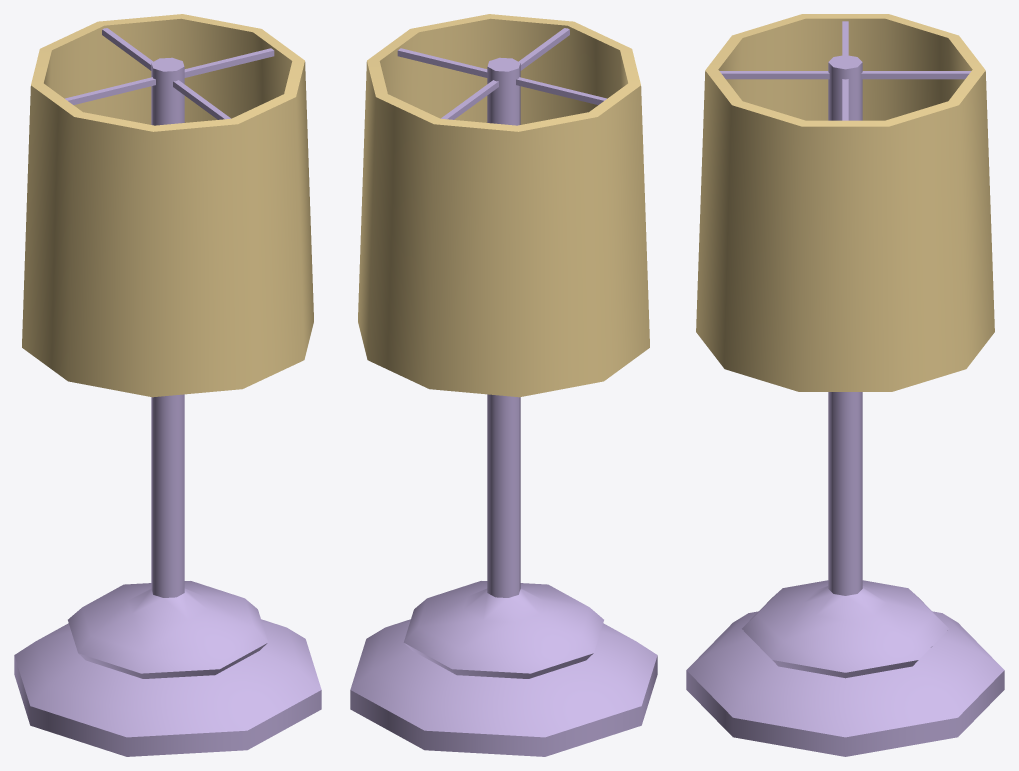
Rendered from table-lamp.glb.
3 views of the same model, side by side, from view 1: azimuth 30°, elevation 25°; view 2: azimuth 150°, elevation 25°; view 3: azimuth 270°, elevation 25° (orthographic).
Parts seen in each view (by area): view 1: Light_Floor4; view 2: Light_Floor4; view 3: Light_Floor4.
Part boxes in pixels (left/top/right/bottom): Light_Floor4: left=14, top=14, right=321, bottom=756; Light_Floor4: left=350, top=14, right=657, bottom=756; Light_Floor4: left=686, top=14, right=1004, bottom=756.
Bounding box in the file's own units: 0.3507 × 0.7632 × 0.3507.
